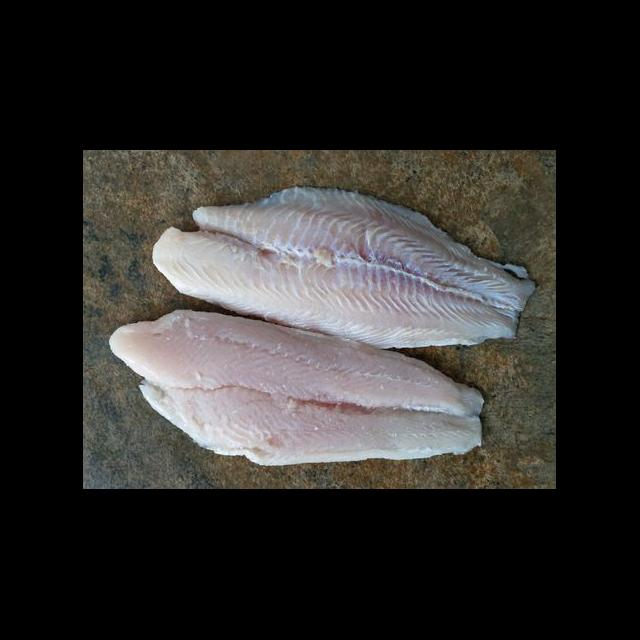fish: (94, 301, 501, 487), (140, 178, 545, 349)
